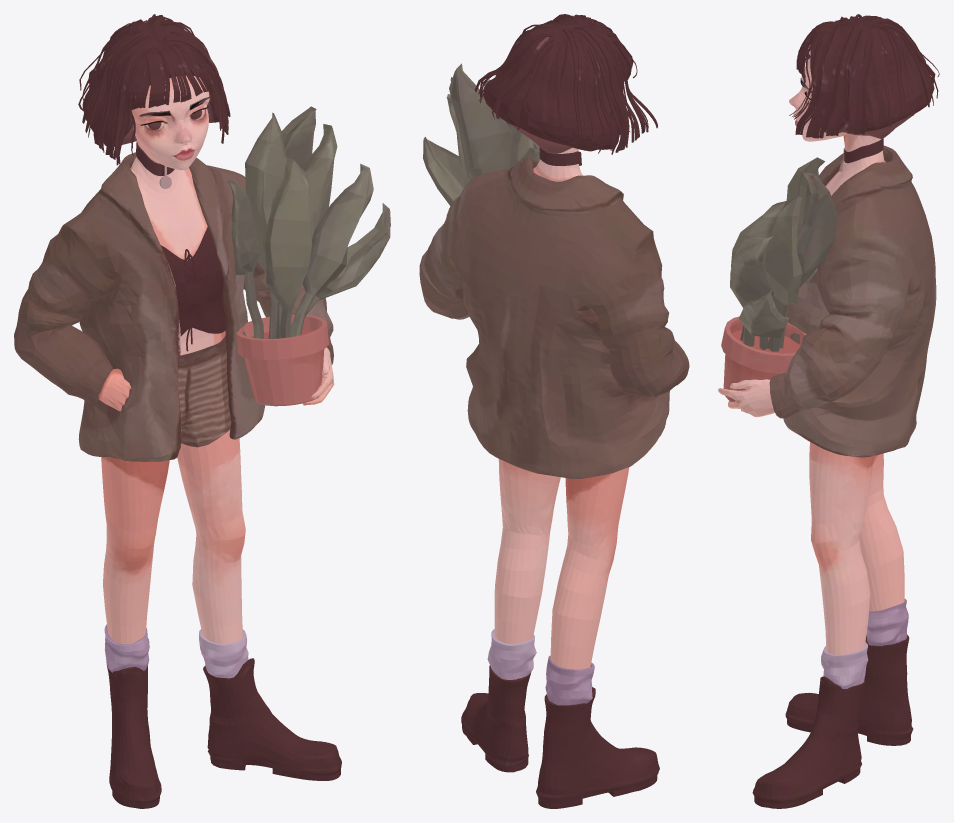
File: player-low.glb
3 views of the same model, side by side, from view 1: azimuth 30°, elevation 25°; view 2: azimuth 150°, elevation 25°; view 3: azimuth 270°, elevation 25° (orthographic). The views are drawn at different scales.
Parts seen in each view (by area): view 1: polySurface80, polySurface74, polySurface87, polySurface67, polySurface86, polySurface66, polySurface75, polySurface68, polySurface85, polySurface76, polySurface69, hairStrands_v2:polySurface28 (+7 smaller); view 2: polySurface80, polySurface74, hairStrands_v2:polySurface28, polySurface86, polySurface87, polySurface102, polySurface77, polySurface62, polySurface78, polySurface69, polySurface60, hairStrands_v2:Group52555 (+1 smaller); view 3: polySurface80, polySurface74, polySurface87, polySurface86, hairStrands_v2:polySurface28, polySurface67, polySurface72, polySurface102, polySurface68, polySurface62, polySurface77, polySurface78 (+15 smaller).
Part boxes in pixels (<box>): polySurface80: <box>14,152,333,461</box>; polySurface74: <box>101,143,245,644</box>; polySurface87: <box>203,658,341,780</box>; polySurface67: <box>236,315,328,406</box>; polySurface86: <box>107,665,161,808</box>; polySurface66: <box>262,158,311,338</box>; polySurface75: <box>178,331,231,447</box>; polySurface68: <box>290,163,373,336</box>; polySurface85: <box>131,75,209,170</box>; polySurface76: <box>161,226,226,336</box>; polySurface69: <box>245,112,287,338</box>; hairStrands_v2:polySurface28: <box>82,19,219,146</box>; polySurface80: <box>419,157,689,478</box>; polySurface74: <box>494,147,629,669</box>; hairStrands_v2:polySurface28: <box>483,17,624,153</box>; polySurface86: <box>536,687,659,808</box>; polySurface87: <box>461,665,531,772</box>; polySurface102: <box>449,63,512,179</box>; polySurface77: <box>545,655,594,705</box>; polySurface62: <box>423,137,468,205</box>; polySurface78: <box>487,629,536,679</box>; polySurface69: <box>484,79,534,168</box>; polySurface60: <box>539,147,581,165</box>; hairStrands_v2:Group52555: <box>541,33,560,135</box>; polySurface80: <box>769,145,936,457</box>; polySurface74: <box>809,134,904,654</box>; polySurface87: <box>752,676,865,808</box>; polySurface86: <box>785,634,913,745</box>; hairStrands_v2:polySurface28: <box>810,17,934,138</box>; polySurface67: <box>721,316,806,401</box>; polySurface72: <box>765,194,805,351</box>; polySurface102: <box>767,172,837,349</box>; polySurface68: <box>730,235,774,346</box>; polySurface62: <box>738,289,789,350</box>; polySurface77: <box>866,599,908,646</box>; polySurface78: <box>821,642,868,689</box>.
Size of the model in its own units: 82.65 by 191 by 52.97.
Materials: 1 (1 with a texture image).
